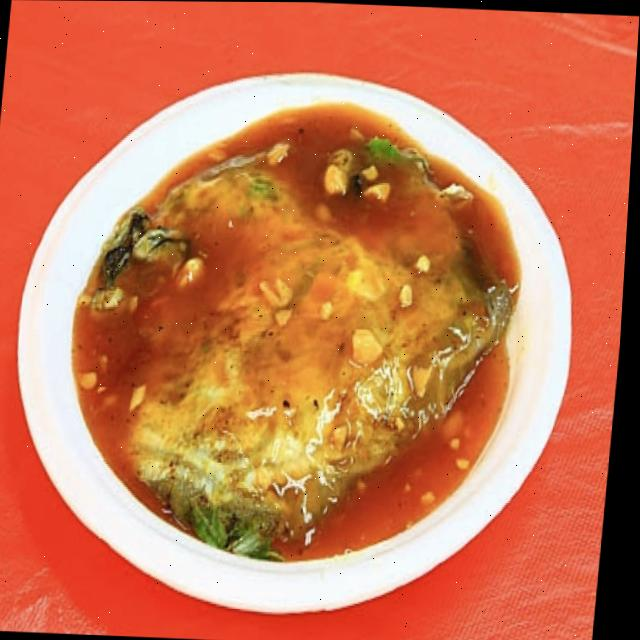熟制海鲜: (0, 23, 611, 639)
